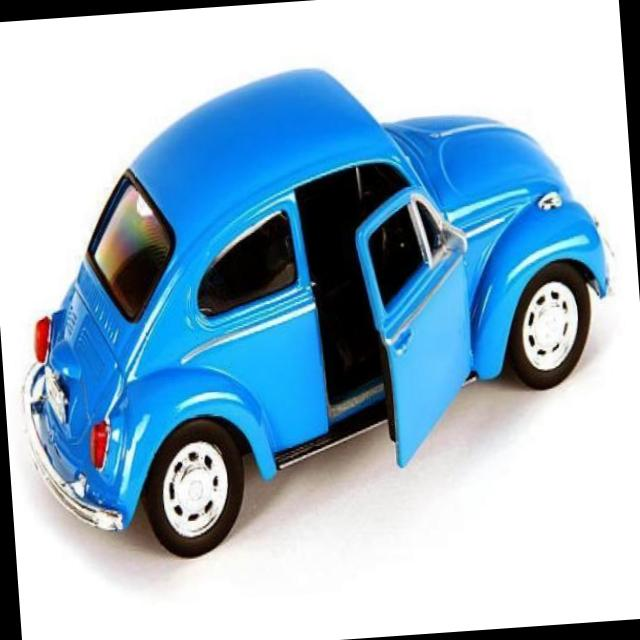car: (3, 51, 620, 562)
